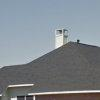Chimney: (47, 21, 70, 47)
